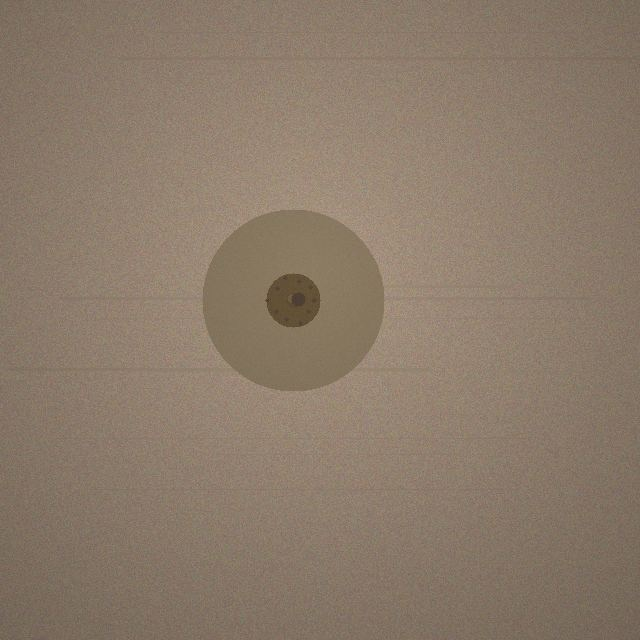cold_weld: (202, 209, 384, 391)
